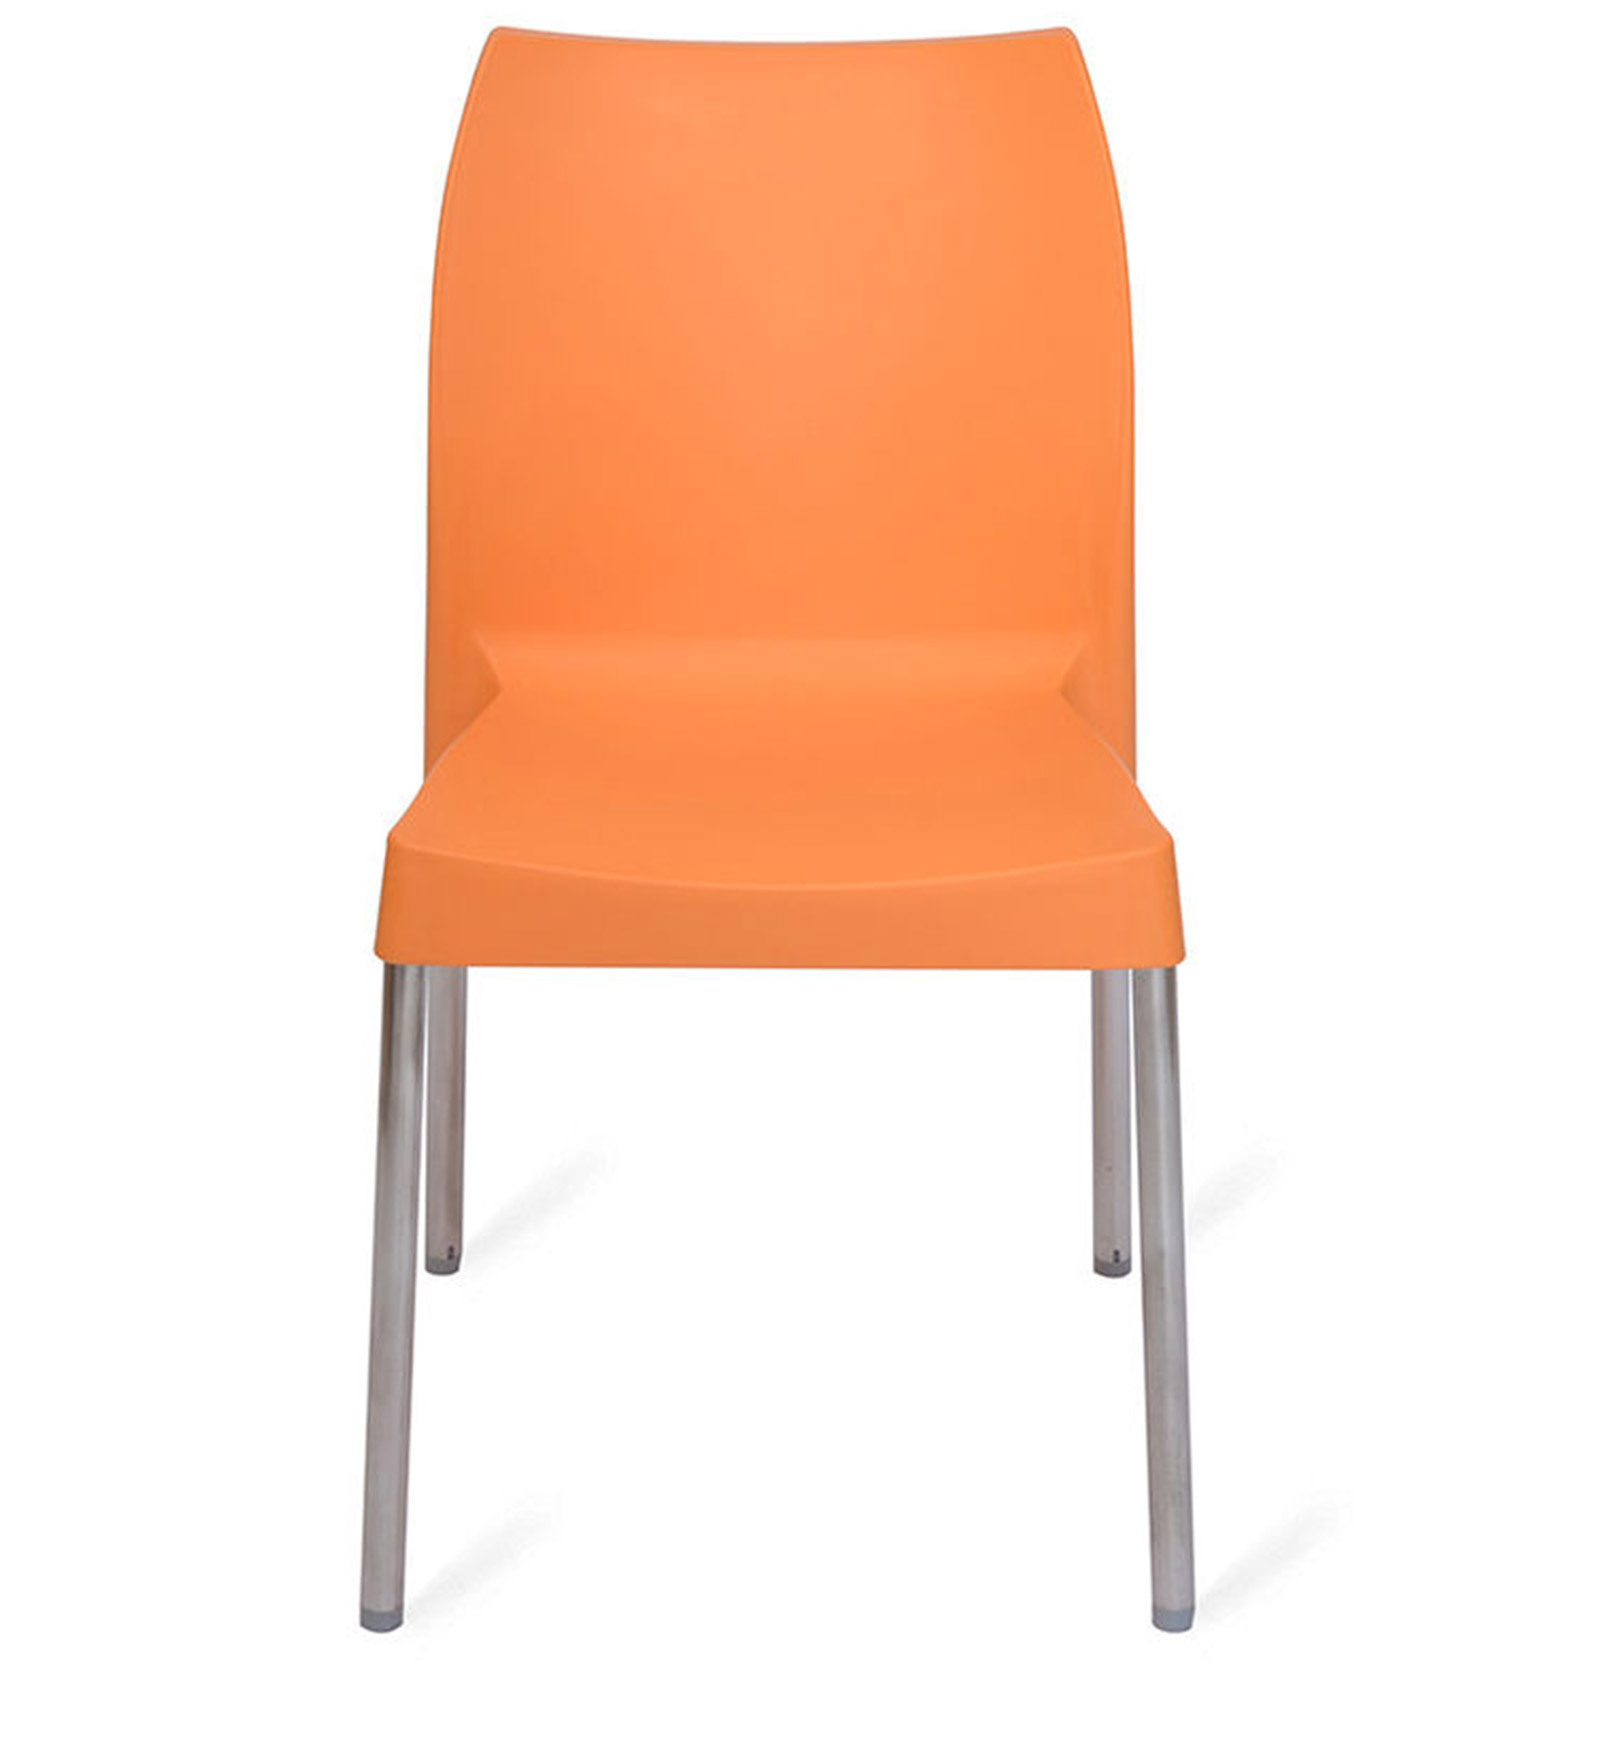Novella Series - 7 Chair (Set of 2) in Orange Colour by Nilkamal: (366, 17, 1203, 1633)
